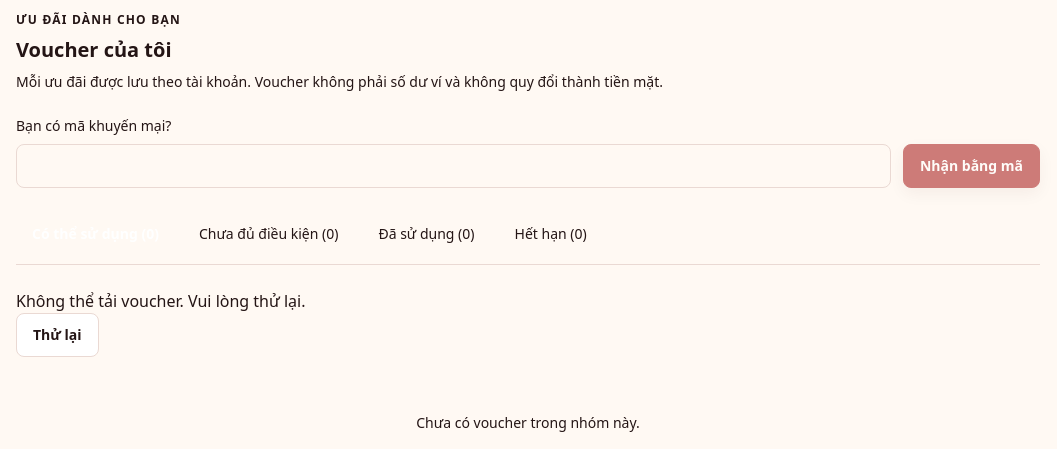
Test case: can retry a failed load
This screenshot has width=1057, height=449.
Expected: the message "Không thể tải voucher. Vui lòng thử lại. Thử lại" is shown, [16,290,306,357]
Step 1. Click the button "Thử lại" → x=57, y=335, box [16,313,99,357]
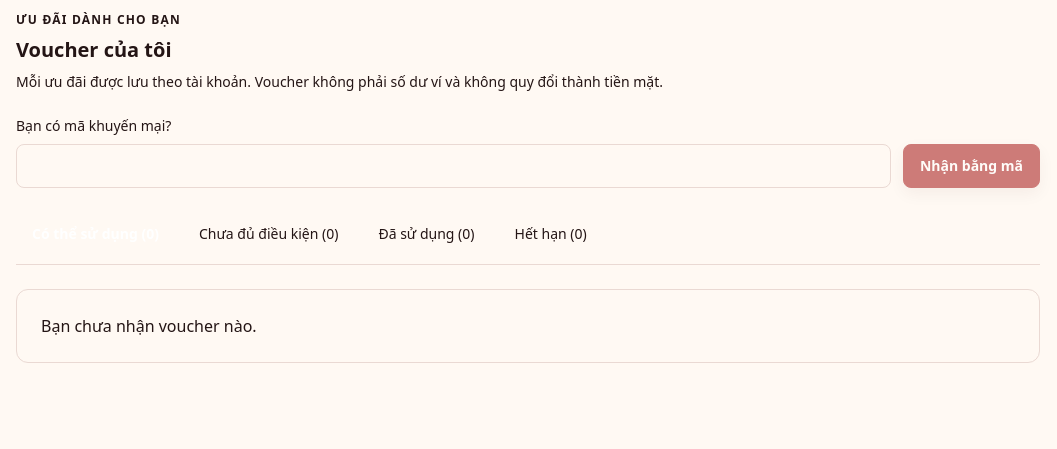
Now the text "Bạn chưa nhận voucher nào." is shown, box [16,289,1040,363]
